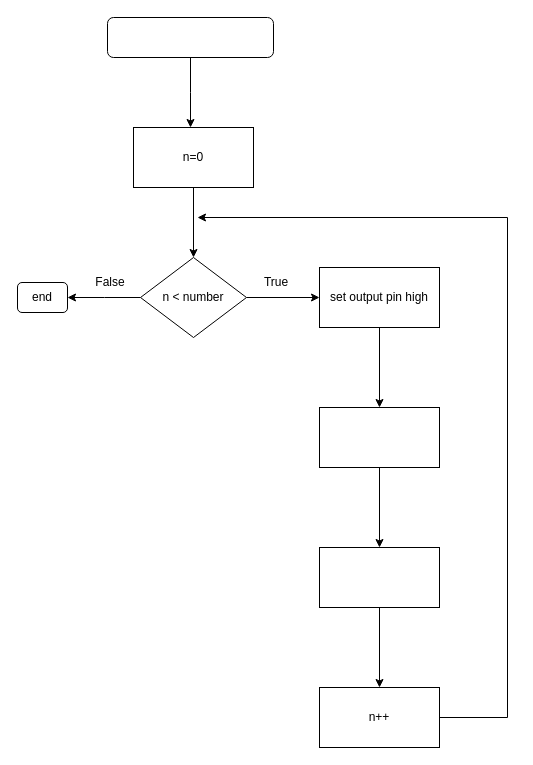
Some shapes in this 533 by 765 pixel diagram are drawn without their labels. Here are the shapes that lost their labels. From the top down, the centre of each, then its label:
point (190, 37): void burst_c(uint8_t number)
point (379, 437): wait one clock
point (379, 577): set output pin low
